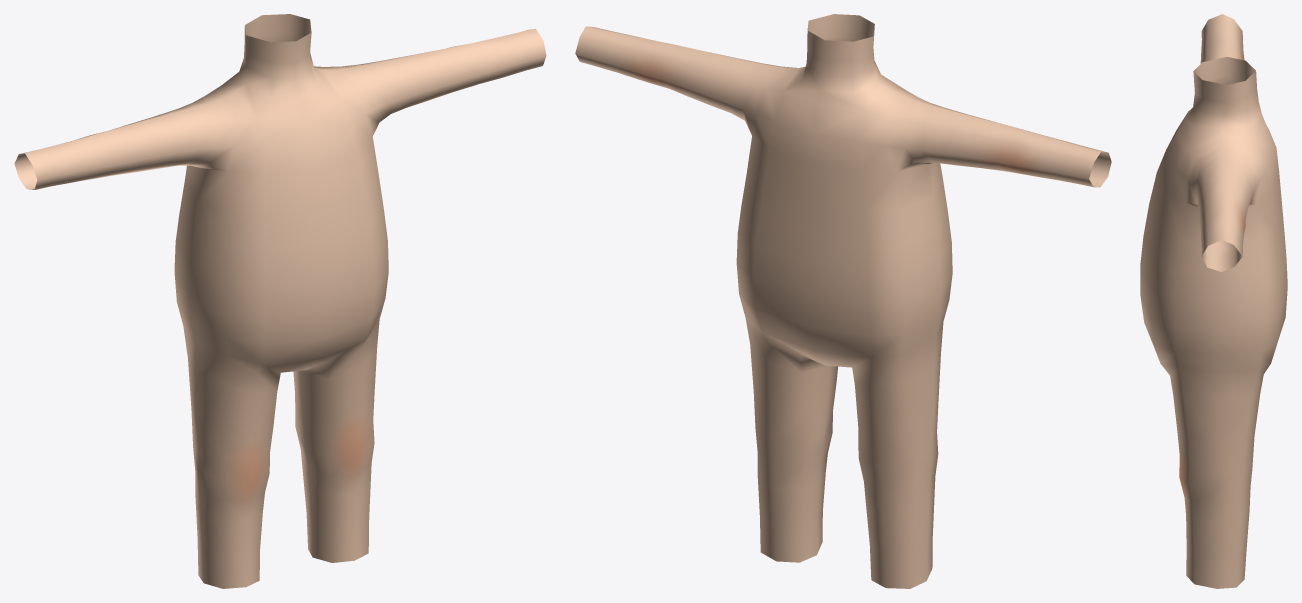
Rendered from Body_White_4.fbx.
3 views of the same model, side by side, from view 1: azimuth 30°, elevation 25°; view 2: azimuth 150°, elevation 25°; view 3: azimuth 270°, elevation 25° (orthographic). The views are drawn at different scales.
Parts seen in each view (by area): view 1: Body_White_4; view 2: Body_White_4; view 3: Body_White_4.
Part boxes in pixels (<box>): Body_White_4: <box>14,14,546,588</box>; Body_White_4: <box>575,14,1111,588</box>; Body_White_4: <box>1140,14,1287,588</box>.
Size of the model in its own units: 95.86 by 95.87 by 26.46.
